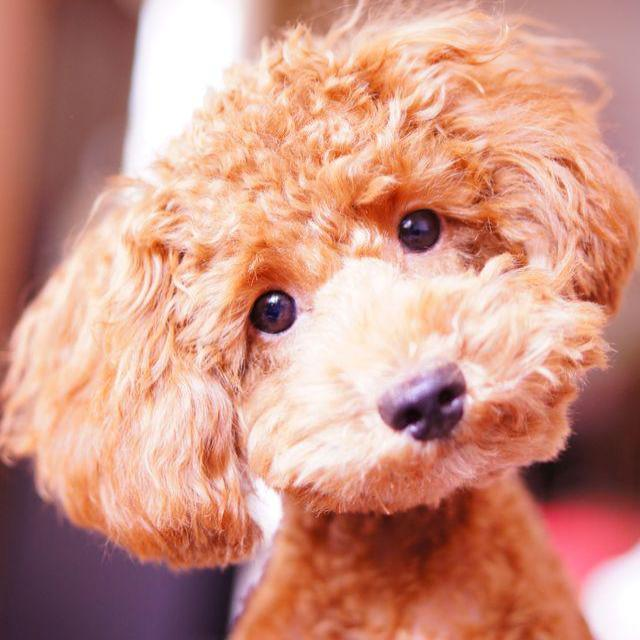Dog: (2, 25, 638, 585)
